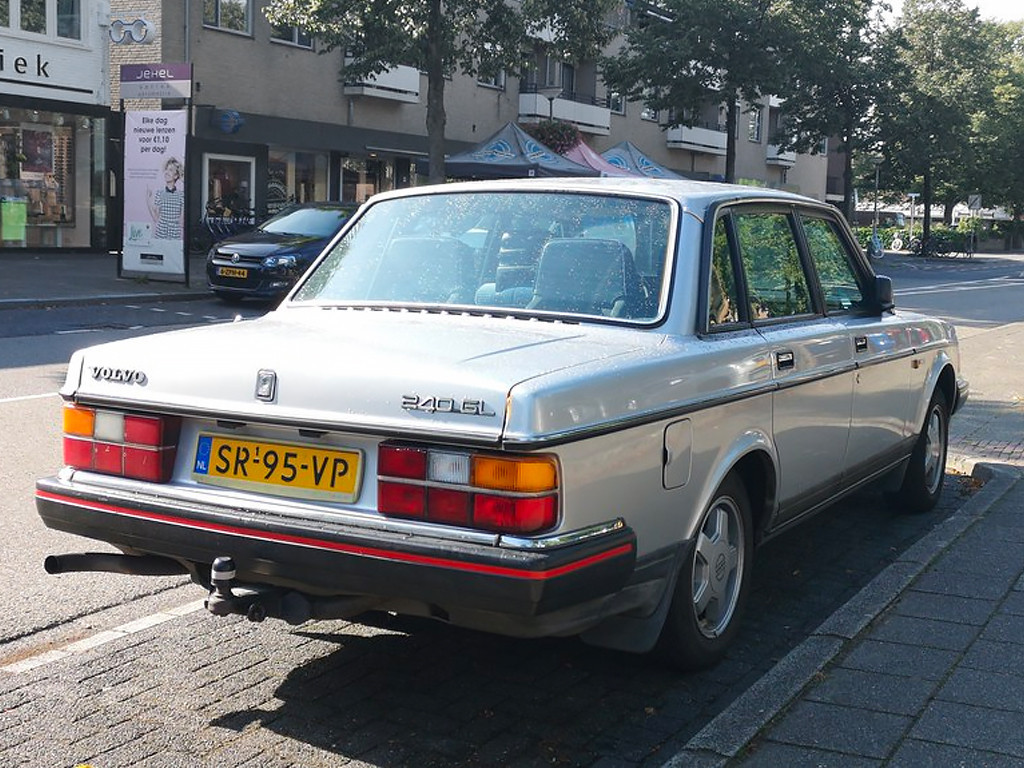car: (30, 170, 976, 684)
